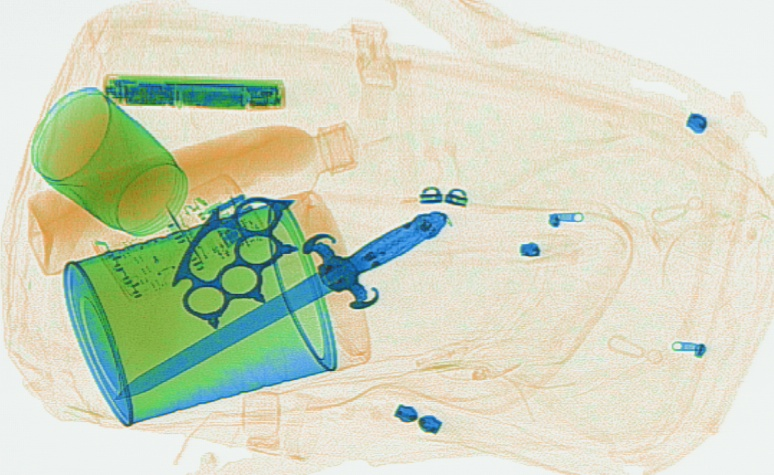knife: (110, 204, 447, 404)
